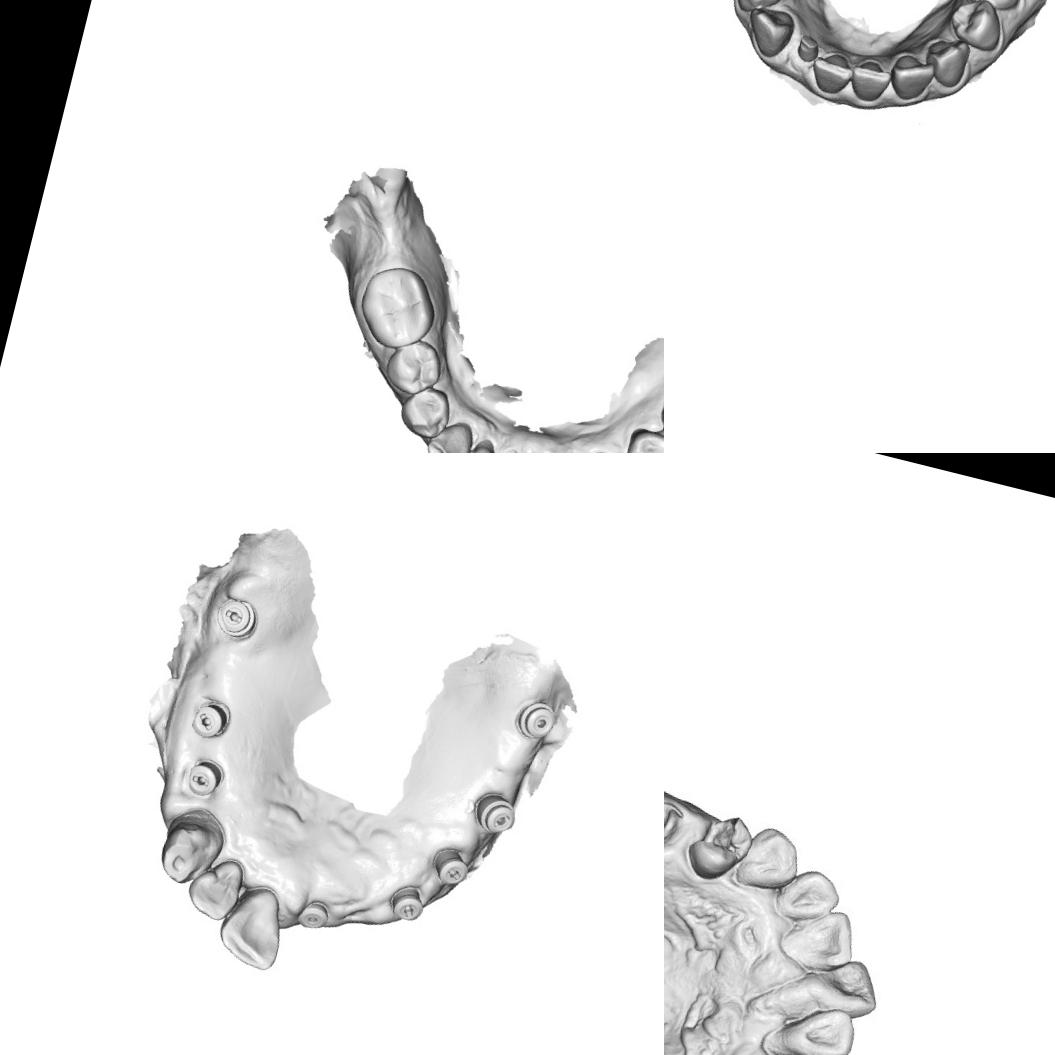abutment: (790, 28, 824, 68)
canine: (152, 800, 230, 892), (737, 818, 808, 894), (739, 0, 800, 63), (916, 30, 976, 93), (420, 413, 476, 453)
implant: (512, 696, 559, 744), (293, 896, 332, 934)
implant_minus: (468, 786, 520, 837), (210, 594, 262, 644), (186, 695, 234, 743), (426, 842, 474, 890), (182, 754, 228, 801), (384, 879, 428, 924)
incisor: (212, 876, 292, 973), (784, 898, 861, 972), (774, 856, 848, 930), (182, 850, 247, 925), (781, 1000, 864, 1055), (819, 951, 884, 1021), (801, 38, 863, 105), (883, 48, 941, 108), (842, 50, 896, 108), (452, 433, 510, 453)
molar: (350, 256, 446, 356)
premolar: (684, 806, 754, 884), (379, 331, 448, 402), (939, 0, 1010, 56), (394, 379, 456, 443), (727, 0, 792, 21), (618, 424, 664, 453), (961, 0, 1029, 16)
